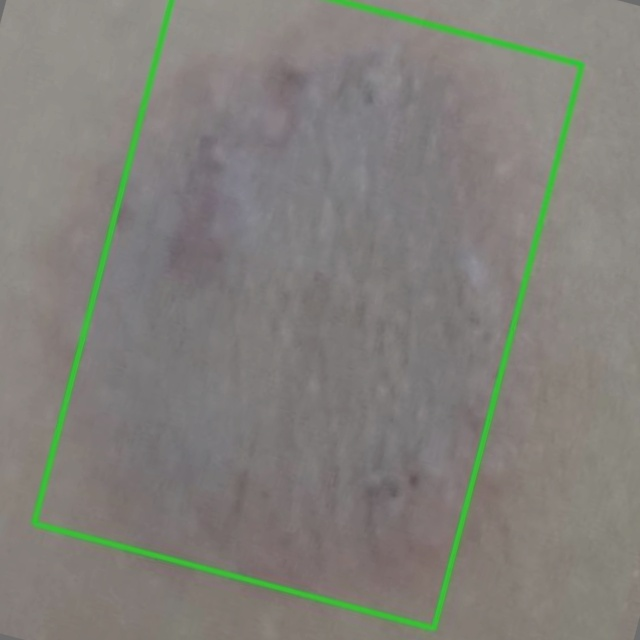Eczema: (33, 0, 583, 630)
